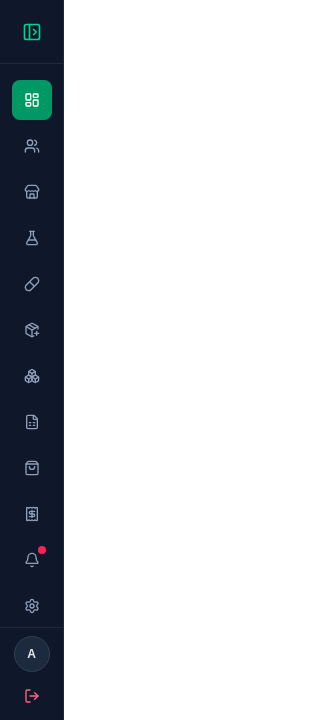
Test: Sidebar Component › expands sidebar when expand button is clicked
Click the button named "expand sidebar" at (32, 32), box [16,16,48,48]
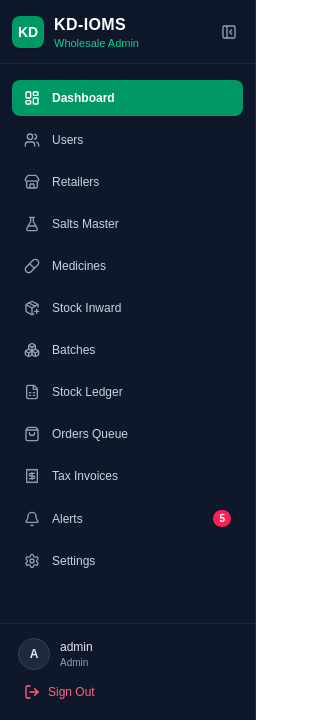
expect the text "KD-IOMS" is shown: met, box [54,16,126,33]
